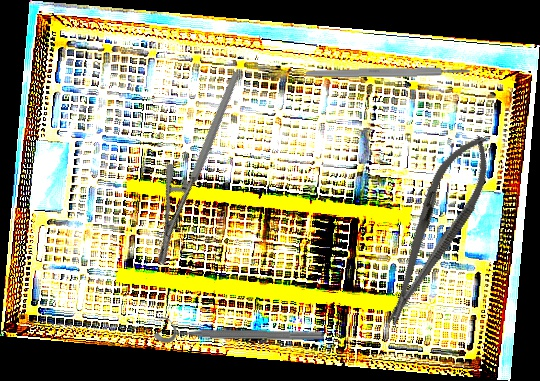Fixation Ring: (152, 314, 325, 346)
Needle Holder: (106, 70, 292, 267), (365, 125, 506, 335)
Scalpel Handle: (305, 66, 471, 79)
